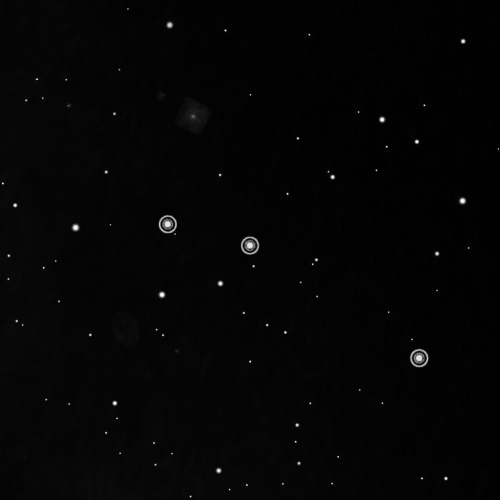vulpecula: (154, 211, 433, 371)
